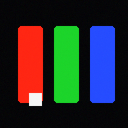1 square: (29, 93, 41, 105)
